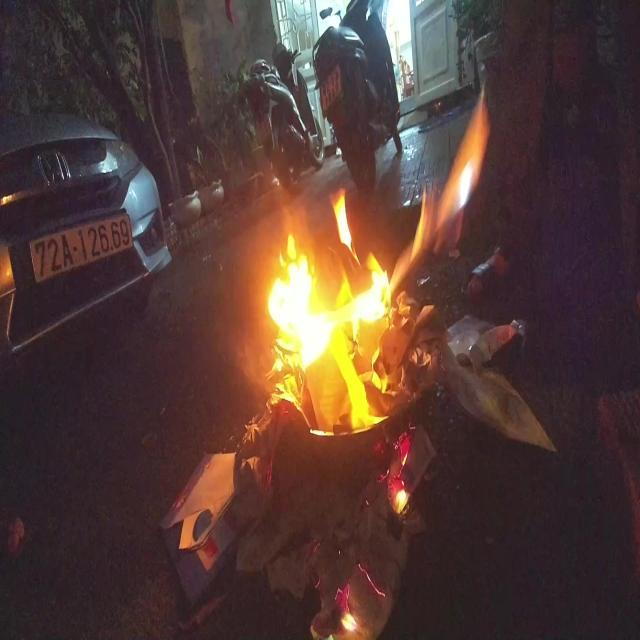Fire: (266, 86, 490, 430), (387, 440, 412, 516)
